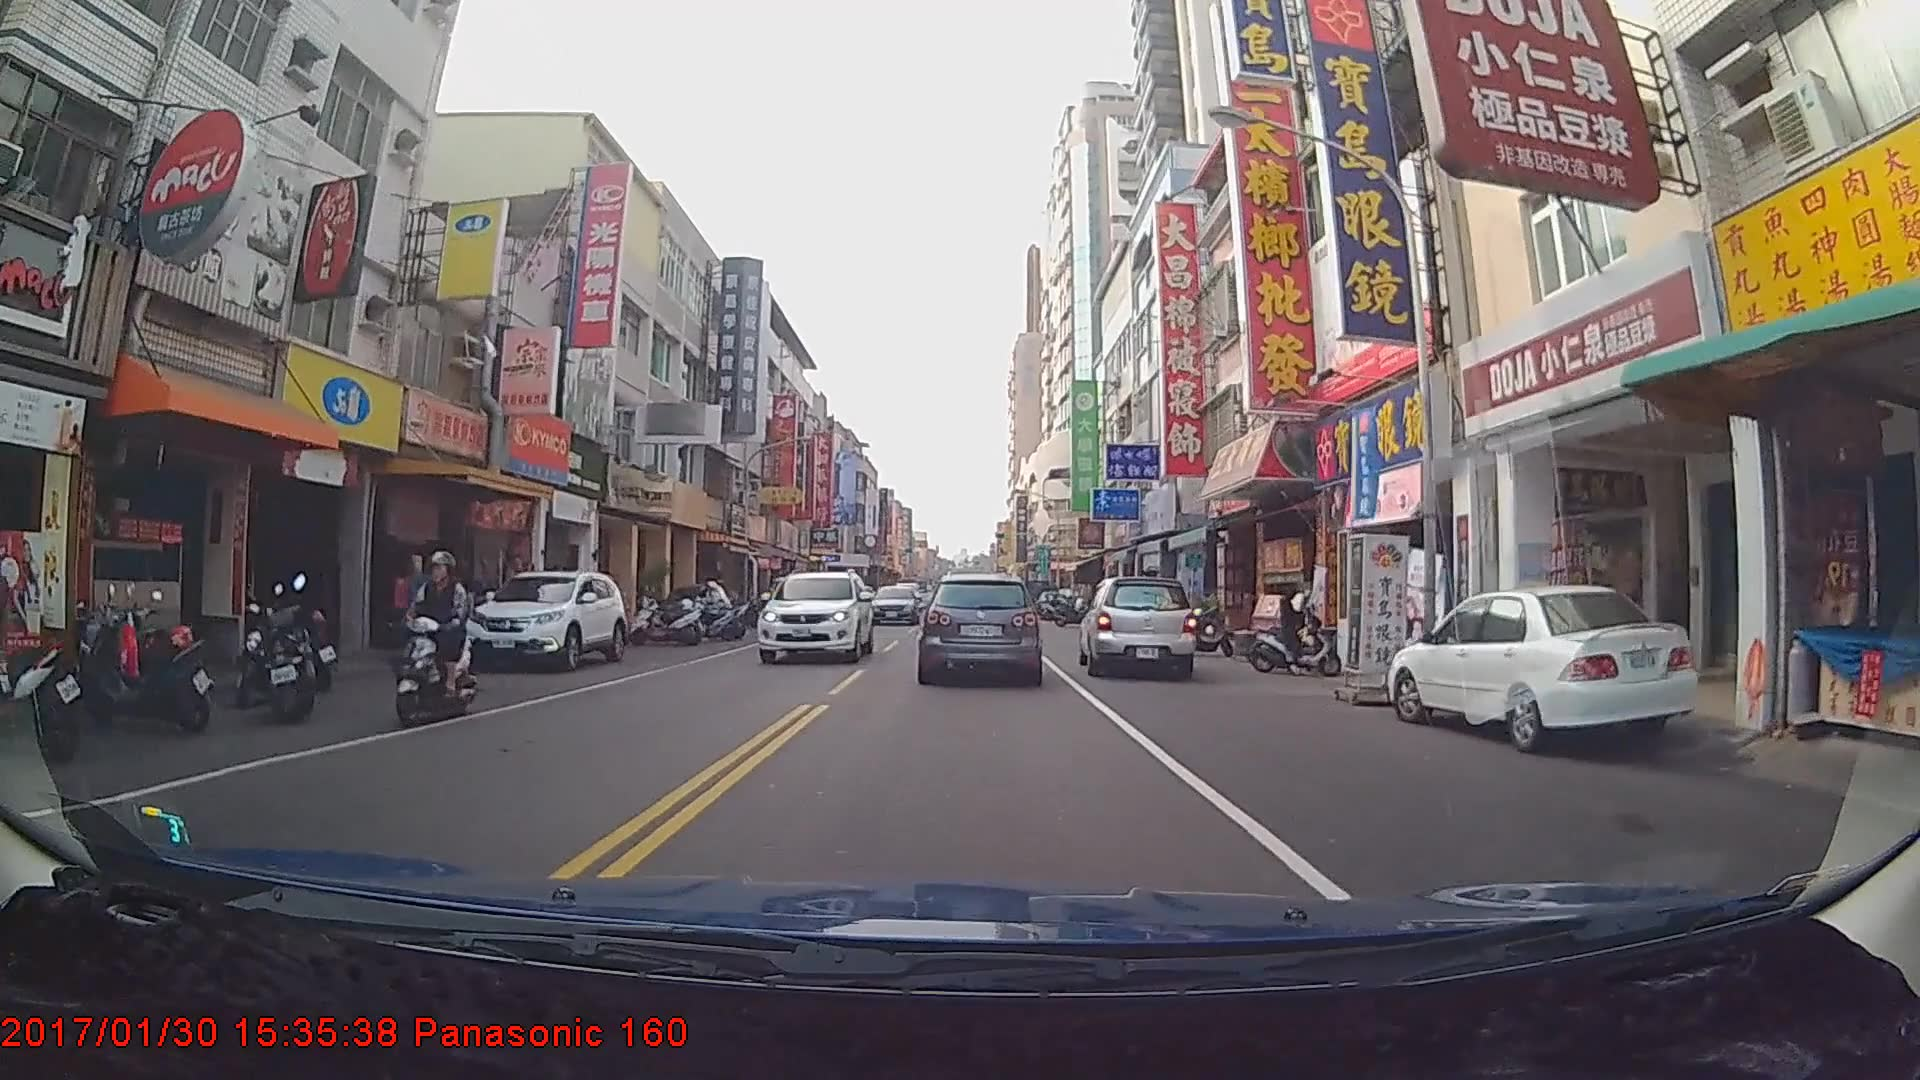rider: (393, 553, 481, 732), (1246, 578, 1348, 680)
vehicle: (1386, 588, 1702, 748), (460, 569, 625, 672), (920, 572, 1040, 683), (1078, 574, 1194, 681), (758, 570, 873, 663), (865, 583, 919, 625)
